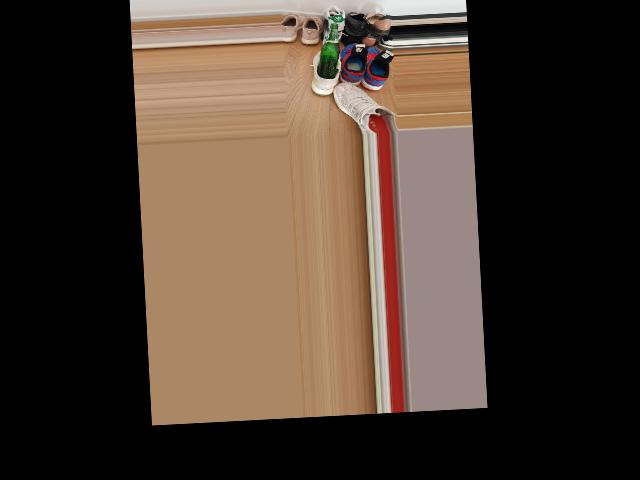beer: (315, 23, 341, 79)
